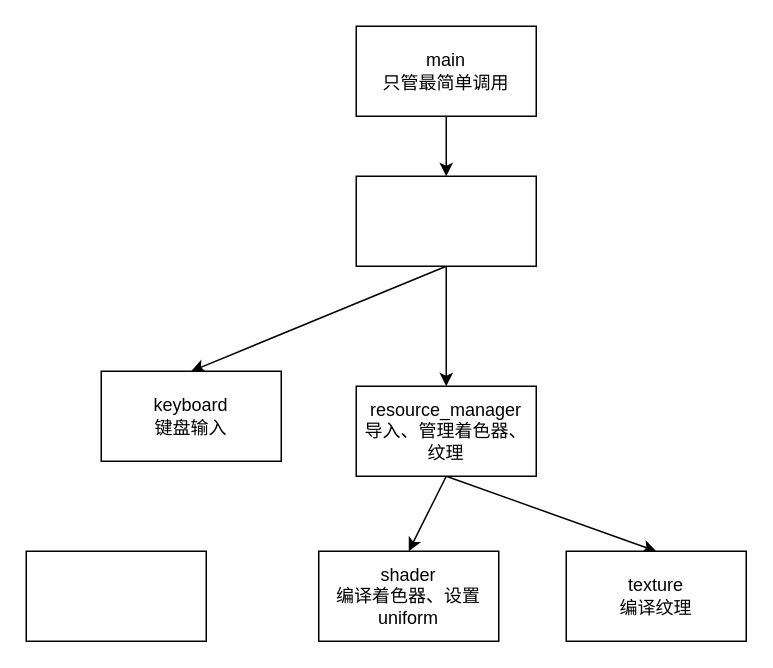
This 773x668 diagram has some shape labels left out. The shapes that lost their labels are listed below. From the top down, each one's centre as x and y in pixels, then its label:
At [445,220]: "game 窗口、初始化、帧".
At [115,595]: "debug 开发测试".
